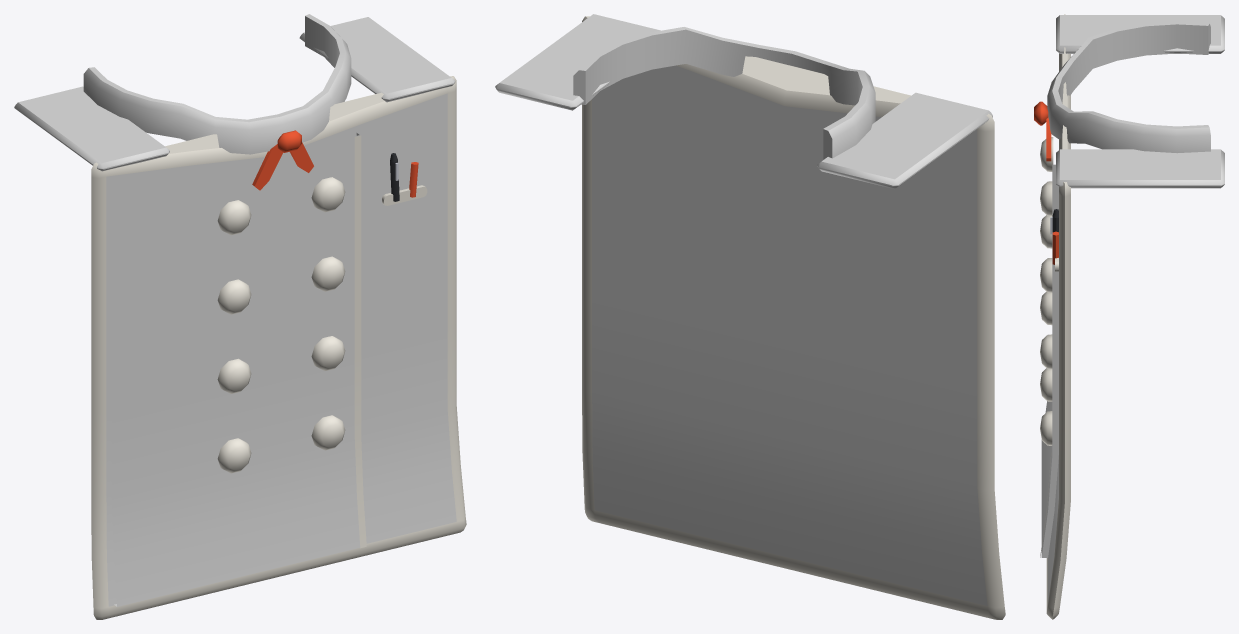
The model's file is Cosmetic_Apron_Chef.fbx.
The picture shows the model from 3 angles, left to right: view 1: azimuth 30°, elevation 25°; view 2: azimuth 150°, elevation 25°; view 3: azimuth 270°, elevation 25°; orthographic projection. The views are drawn at different scales.
Parts seen in each view (by area): view 1: Jacket, Trim, Neckerchief; view 2: Jacket, Trim; view 3: Jacket, Trim, Neckerchief.
Part boxes in pixels (box(x1,y1,x2,y2)): Jacket: box(14, 14, 456, 606); Trim: box(91, 76, 466, 619); Neckerchief: box(252, 130, 313, 190); Jacket: box(495, 14, 992, 605); Trim: box(582, 16, 1005, 619); Jacket: box(1041, 15, 1224, 601); Trim: box(1040, 14, 1070, 619); Neckerchief: box(1034, 101, 1051, 161).
Size of the model in its own units: 206 by 251 by 94.8.
